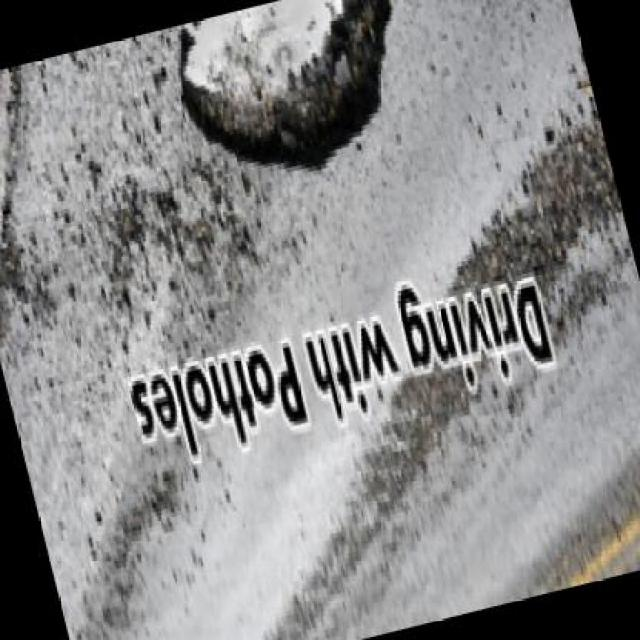pothole1: (167, 0, 443, 212)
